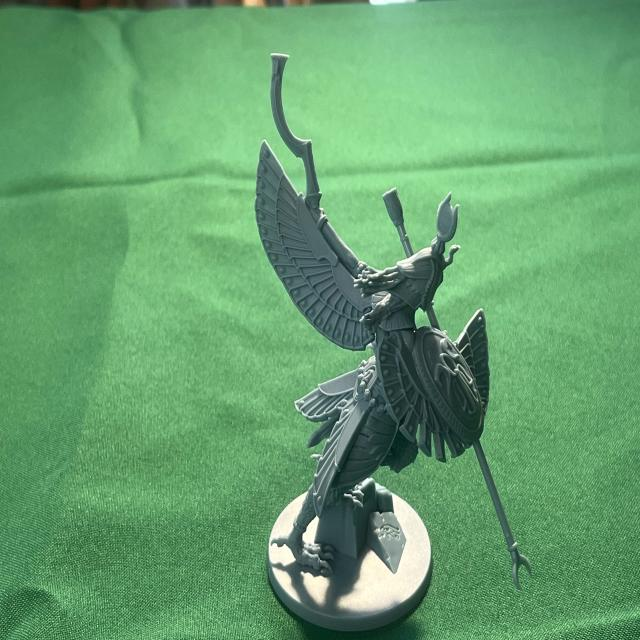isis: (251, 42, 539, 640)
